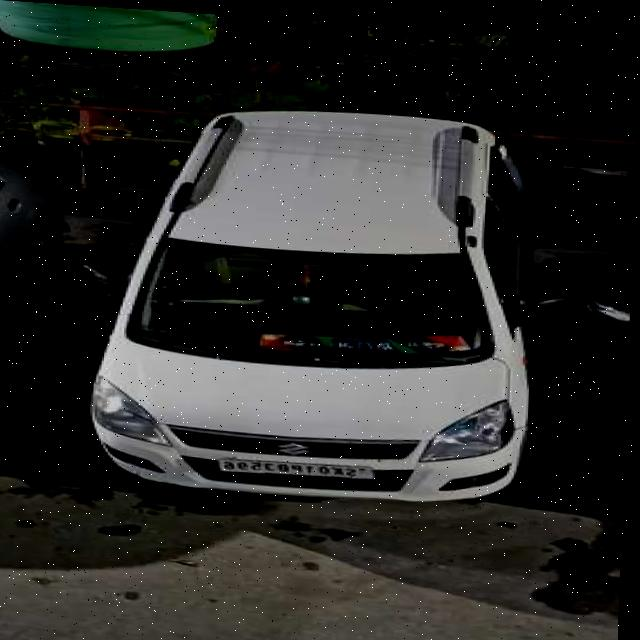plate: (220, 451, 384, 478)
